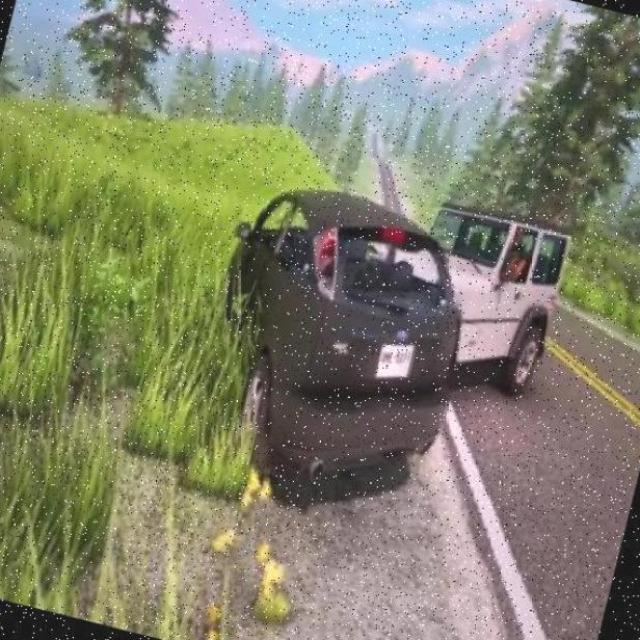accident: (179, 140, 589, 544)
